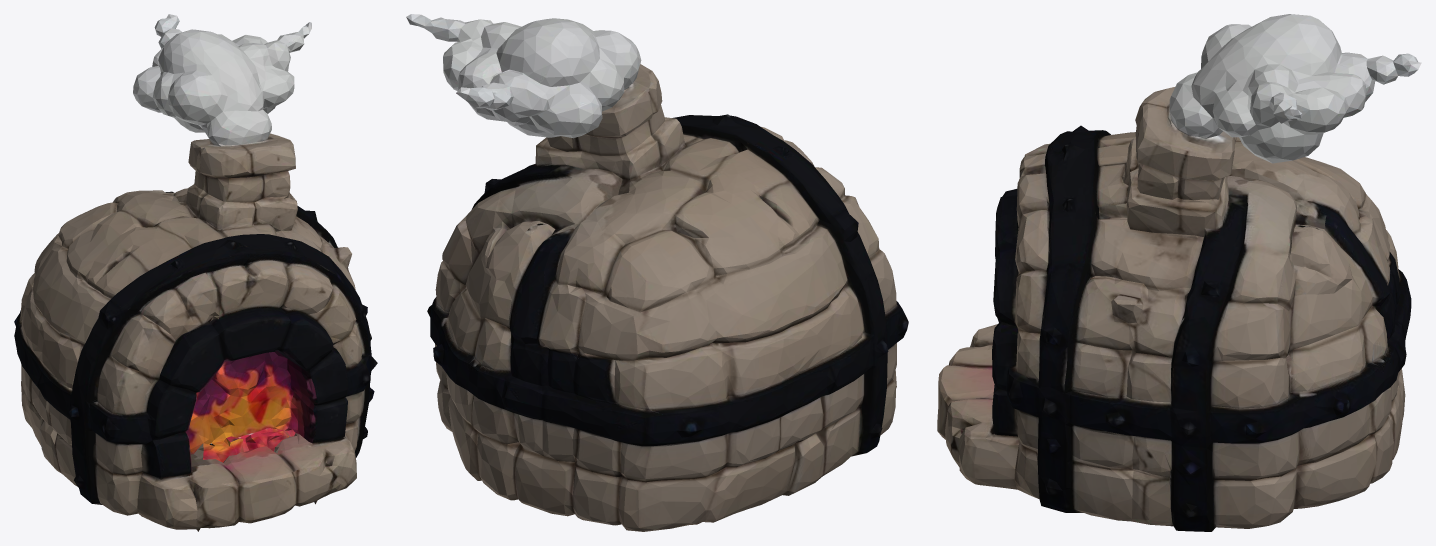
The model's file is furnace.glb.
3 views of the same model, side by side, from view 1: azimuth 30°, elevation 25°; view 2: azimuth 150°, elevation 25°; view 3: azimuth 270°, elevation 25° (orthographic). The views are drawn at different scales.
Parts seen in each view (by area): view 1: tmp0s2o8gqz.ply; view 2: tmp0s2o8gqz.ply; view 3: tmp0s2o8gqz.ply.
Boxes of the visible parts, x1=… form: tmp0s2o8gqz.ply: x1=14, y1=14, x2=377, y2=531; tmp0s2o8gqz.ply: x1=406, y1=14, x2=908, y2=531; tmp0s2o8gqz.ply: x1=937, y1=14, x2=1421, y2=531.
Size of the model in its own units: 1.77 by 1.95 by 1.86.
Materials: 1 (1 with a texture image).
